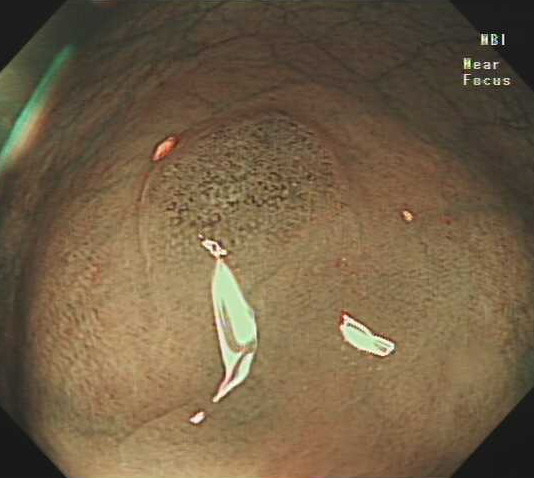adenoma: (138, 109, 348, 278)
